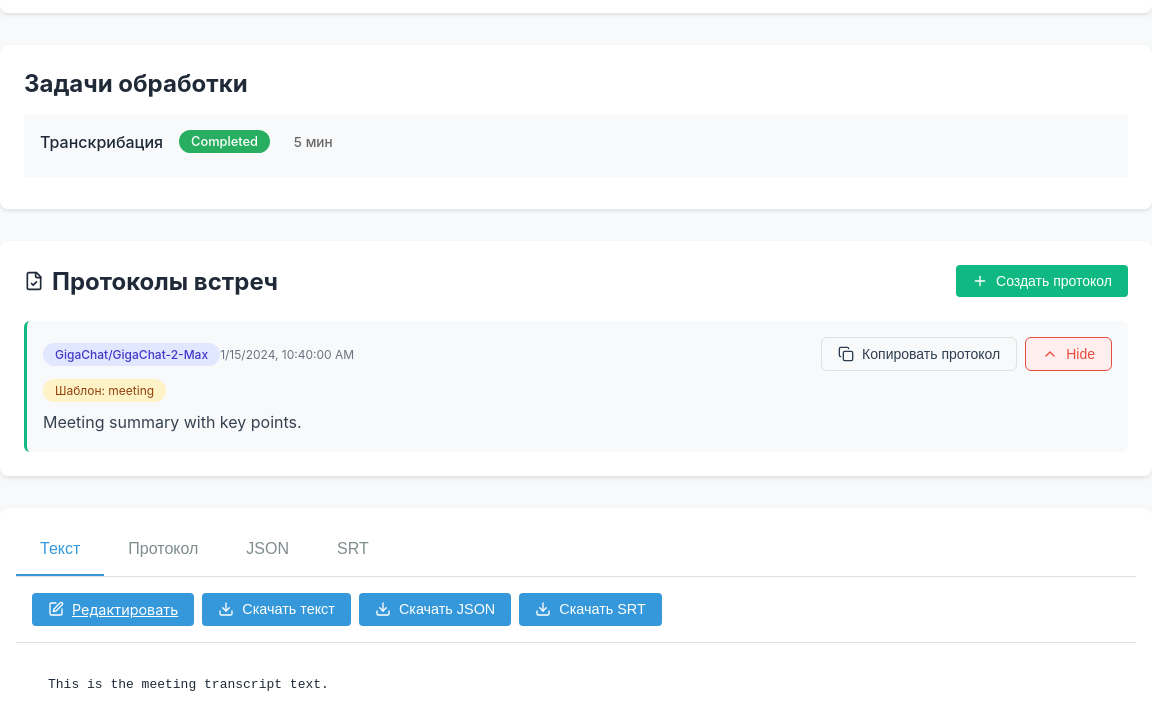
Test: TranscriptDetailPage › Summary Display › should toggle summary visibility
The width and height of the screenshot is (1152, 714).
(page scrolled)
Expected: the text "Meeting summary with key points." is shown, [43,412,302,432]
Click the button "Hide" at (1069, 354), box [1025,337,1112,371]
(page scrolled)
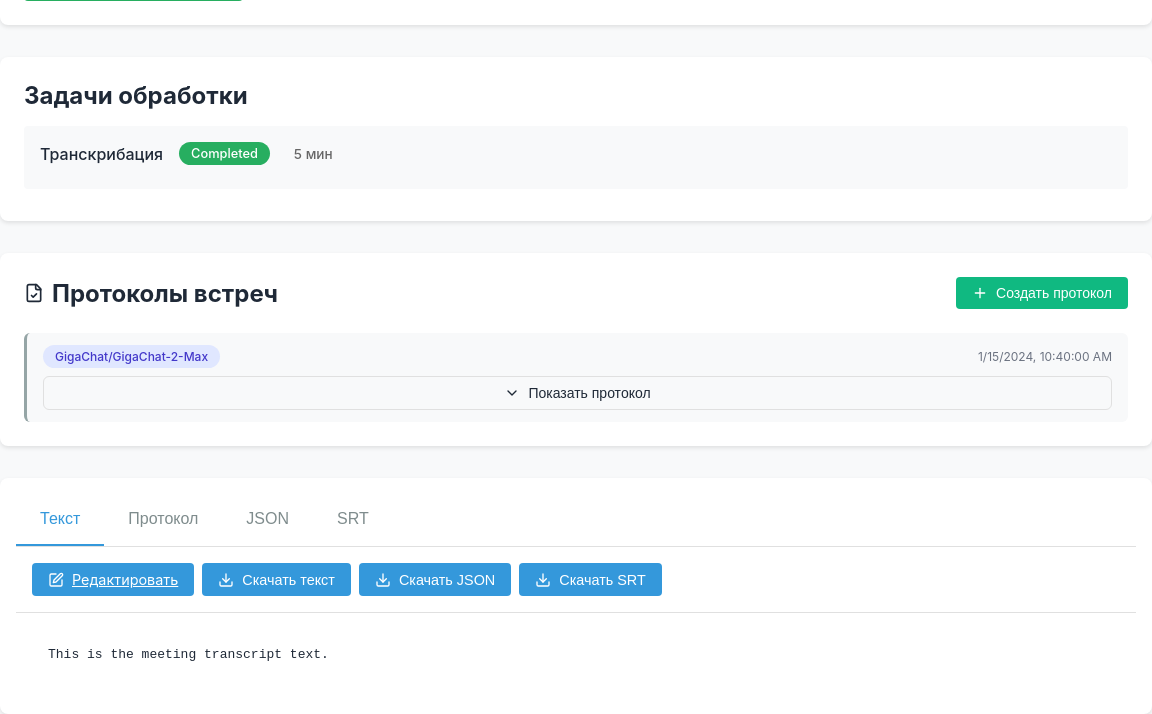
Result: the text "Meeting summary with key points." is gone
Result: the text "Показать протокол" is shown at [528,385,651,401]
